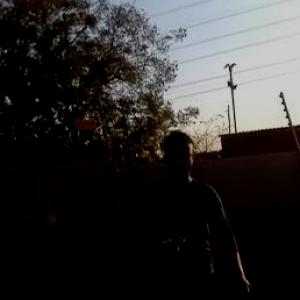follow: (129, 121, 268, 299)
